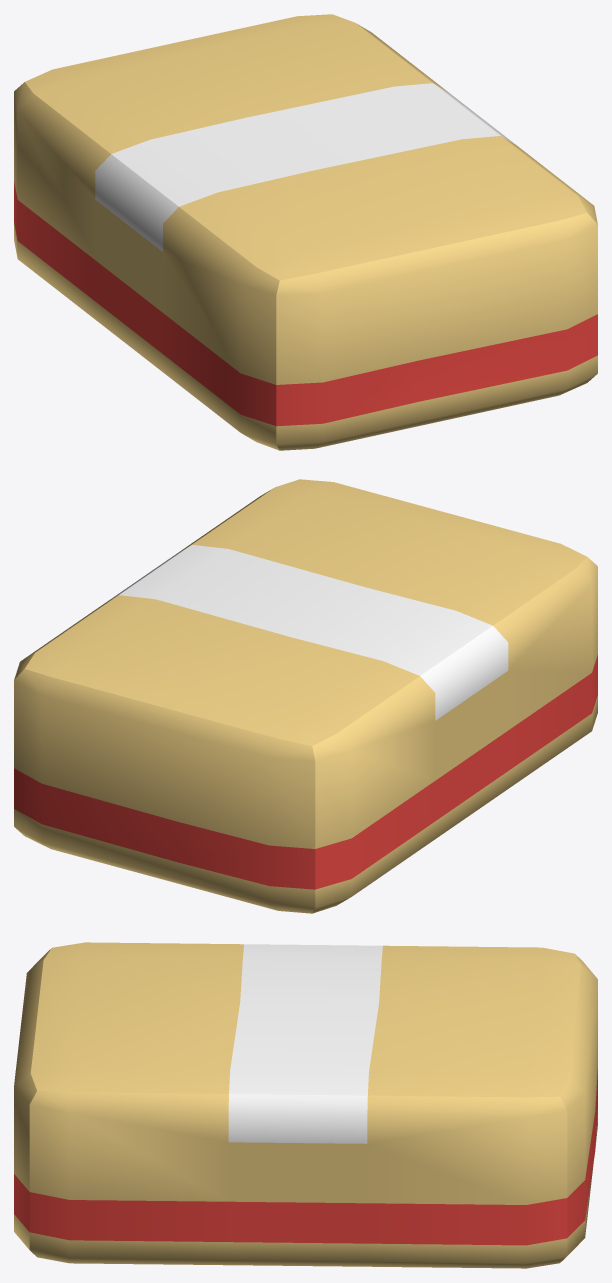
The model's file is Props_Box_Red_04.fbx.
3 renders of one model, top to bottom at view 1: azimuth 30°, elevation 25°; view 2: azimuth 150°, elevation 25°; view 3: azimuth 270°, elevation 25°, orthographic. The views are drawn at different scales.
Visible parts, largest first — view 1: Props_Box_Red_04; view 2: Props_Box_Red_04; view 3: Props_Box_Red_04.
Part boxes in pixels (x1,y1,x2,y2): Props_Box_Red_04: (14, 14, 597, 450); Props_Box_Red_04: (14, 479, 597, 913); Props_Box_Red_04: (14, 942, 597, 1268).
Size of the model in its own units: 36.84 by 18.37 by 53.48.
